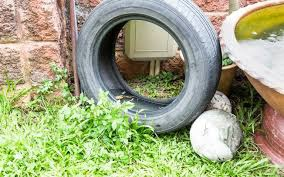tire: (77, 1, 221, 135)
